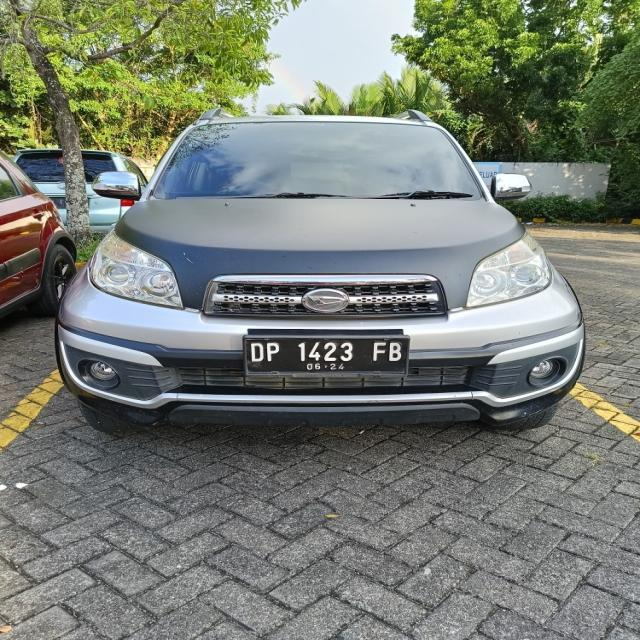plates: (248, 336, 406, 373)
